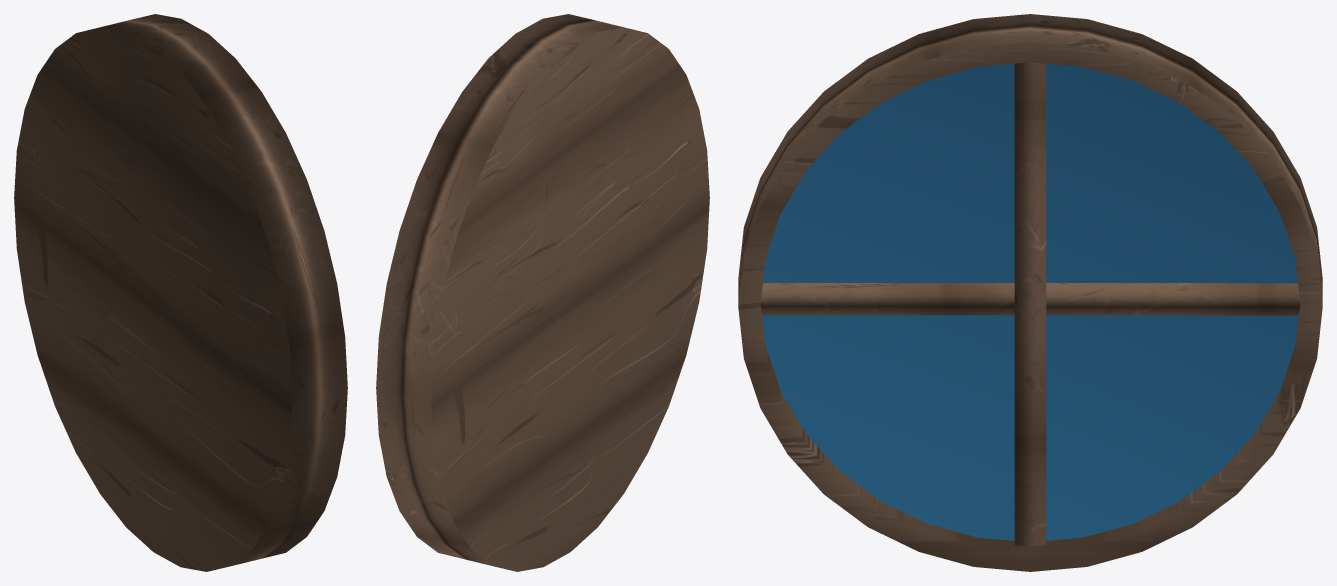
The model's file is Window.fbx.
3 views of the same model, side by side, from view 1: azimuth 30°, elevation 25°; view 2: azimuth 150°, elevation 25°; view 3: azimuth 270°, elevation 25° (orthographic). The views are drawn at different scales.
Parts seen in each view (by area): view 1: Cylinder; view 2: Cylinder; view 3: Cylinder, Cube.001, Cube.
Part boxes in pixels (bbox=[...]): Cylinder: bbox=[14, 14, 347, 571]; Cylinder: bbox=[376, 14, 709, 571]; Cylinder: bbox=[738, 14, 1322, 571]; Cube.001: bbox=[760, 283, 1300, 315]; Cube: bbox=[1014, 62, 1046, 546].
Size of the model in its own units: 22.89 by 200 by 200.
